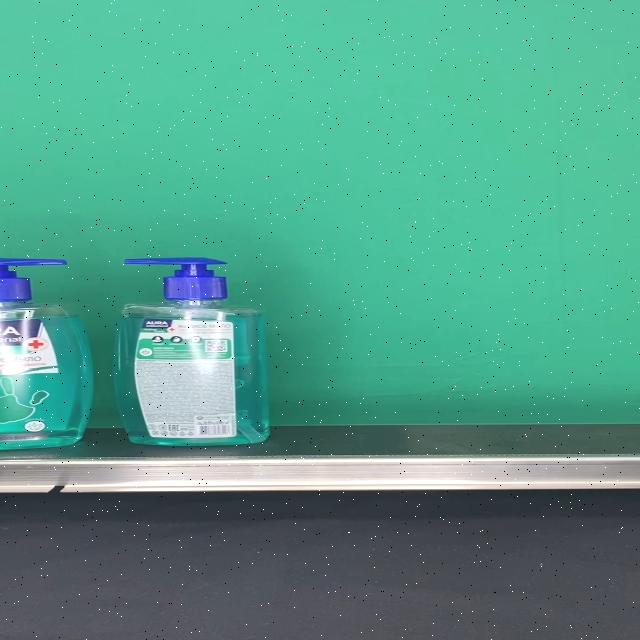Bottle: (114, 257, 270, 446)
Cap: (124, 258, 226, 300)
